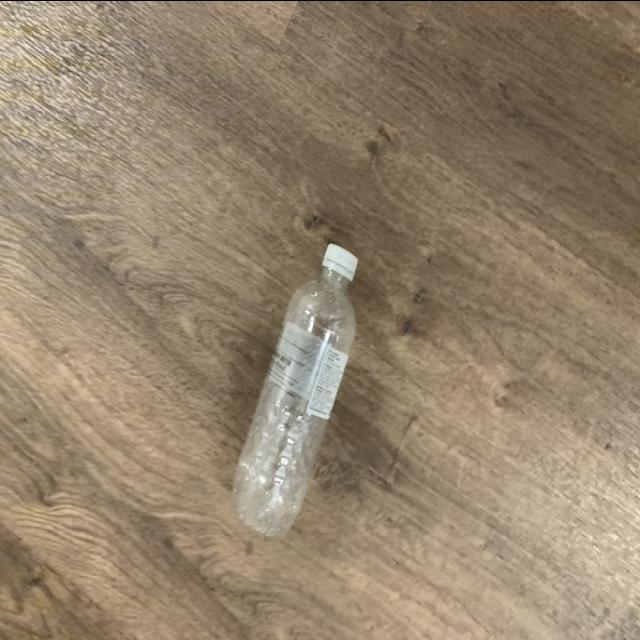PET: (235, 236, 362, 536)
